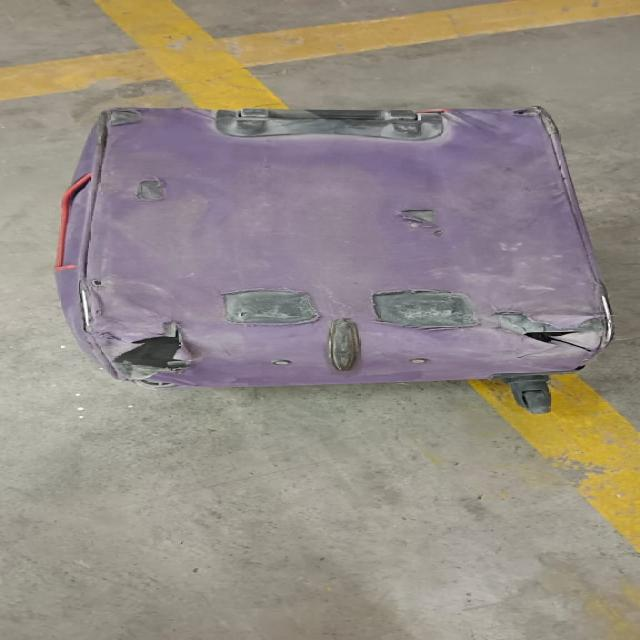Damage-bag: (56, 264, 611, 388), (89, 108, 157, 148), (64, 174, 92, 232), (394, 209, 444, 238), (514, 109, 553, 137), (131, 178, 169, 200)
